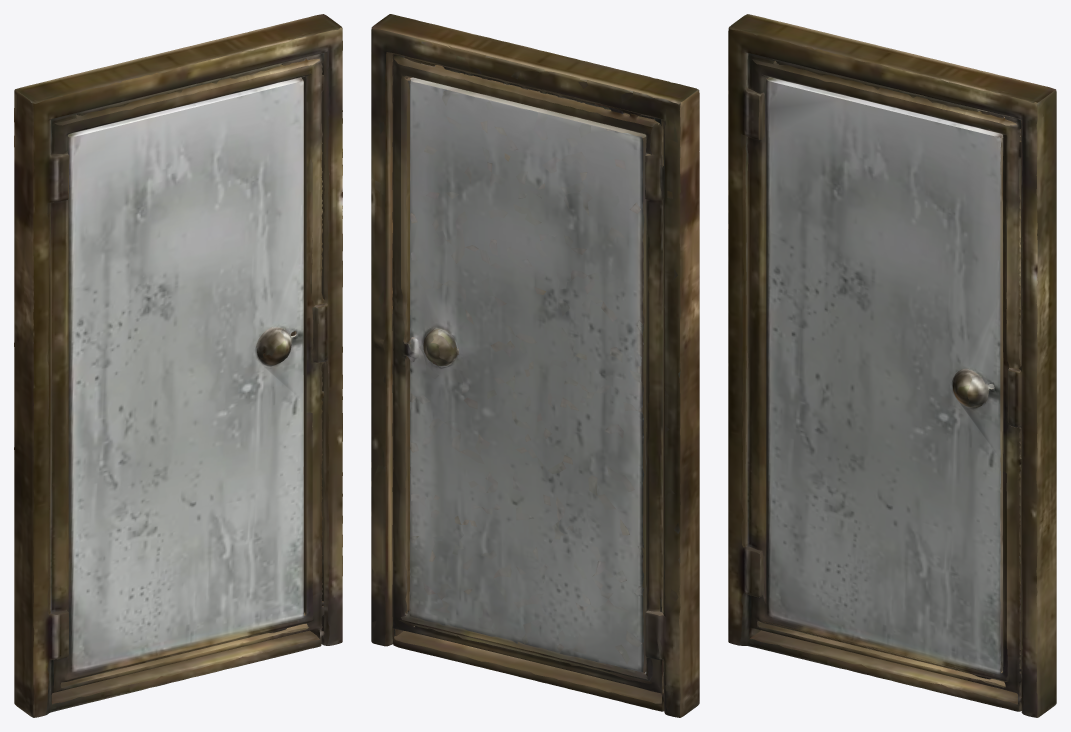
File: obj_basement_shower.glb
3 views of the same model, side by side, from view 1: azimuth 30°, elevation 25°; view 2: azimuth 150°, elevation 25°; view 3: azimuth 330°, elevation 25° (orthographic).
Parts seen in each view (by area): view 1: geometry_0; view 2: geometry_0; view 3: geometry_0.
Part boxes in pixels (x1,y1,x2,y2): geometry_0: [14, 14, 342, 717]; geometry_0: [371, 14, 699, 717]; geometry_0: [728, 14, 1056, 717].
Size of the model in its own units: 2.03 by 3.85 by 0.3699.
Materials: 1 (1 with a texture image).
